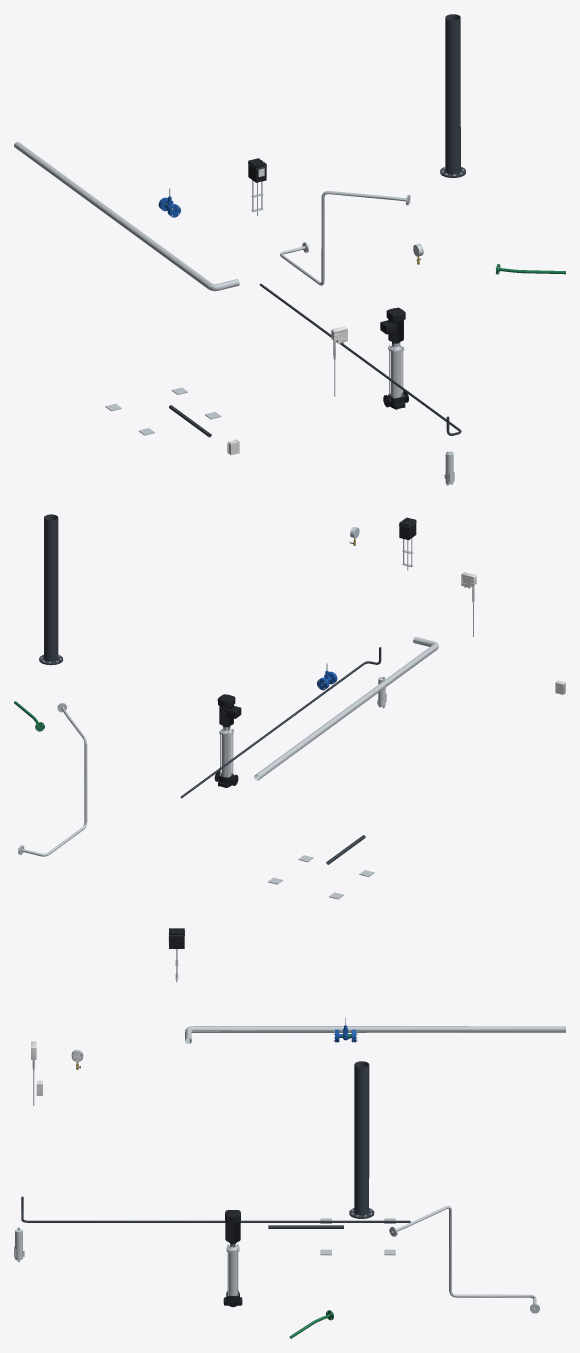
3 renders of one model, top to bottom at view 1: azimuth 30°, elevation 25°; view 2: azimuth 150°, elevation 25°; view 3: azimuth 270°, elevation 25°, orthographic. The views are drawn at different scales.
Parts seen in each view (by area): view 1: bdv_vent / dark, safety_vent_2 / steel, trap_gap_to_bdv / steel, tds_common / dark, pump_2 CAD solid 15; view 2: bdv_vent / dark, safety_vent_2 / steel, trap_gap_to_bdv / steel, tds_common / dark, pump_2 CAD solid 15; view 3: safety_vent_2 / steel, bdv_vent / dark, tds_common / dark, trap_gap_to_bdv / steel, pump_2 CAD solid 15.
Boxes of the visible parts, box(x1,y1,x2,y2) form: bdv_vent / dark: box(440, 14, 465, 177); safety_vent_2 / steel: box(14, 142, 239, 291); trap_gap_to_bdv / steel: box(280, 191, 410, 285); tds_common / dark: box(259, 283, 461, 435); pump_2 CAD solid 15: box(380, 307, 405, 342); bdv_vent / dark: box(39, 514, 62, 665); safety_vent_2 / steel: box(254, 637, 438, 780); trap_gap_to_bdv / steel: box(18, 703, 87, 856); tds_common / dark: box(180, 647, 381, 798); pump_2 CAD solid 15: box(217, 694, 241, 726); safety_vent_2 / steel: box(185, 1026, 565, 1043); bdv_vent / dark: box(349, 1061, 374, 1218); tds_common / dark: box(21, 1196, 410, 1222); trap_gap_to_bdv / steel: box(389, 1205, 539, 1313); pump_2 CAD solid 15: box(225, 1210, 240, 1242).
Bounding box in the file's own units: 5.86 × 3.85 × 6.22.
